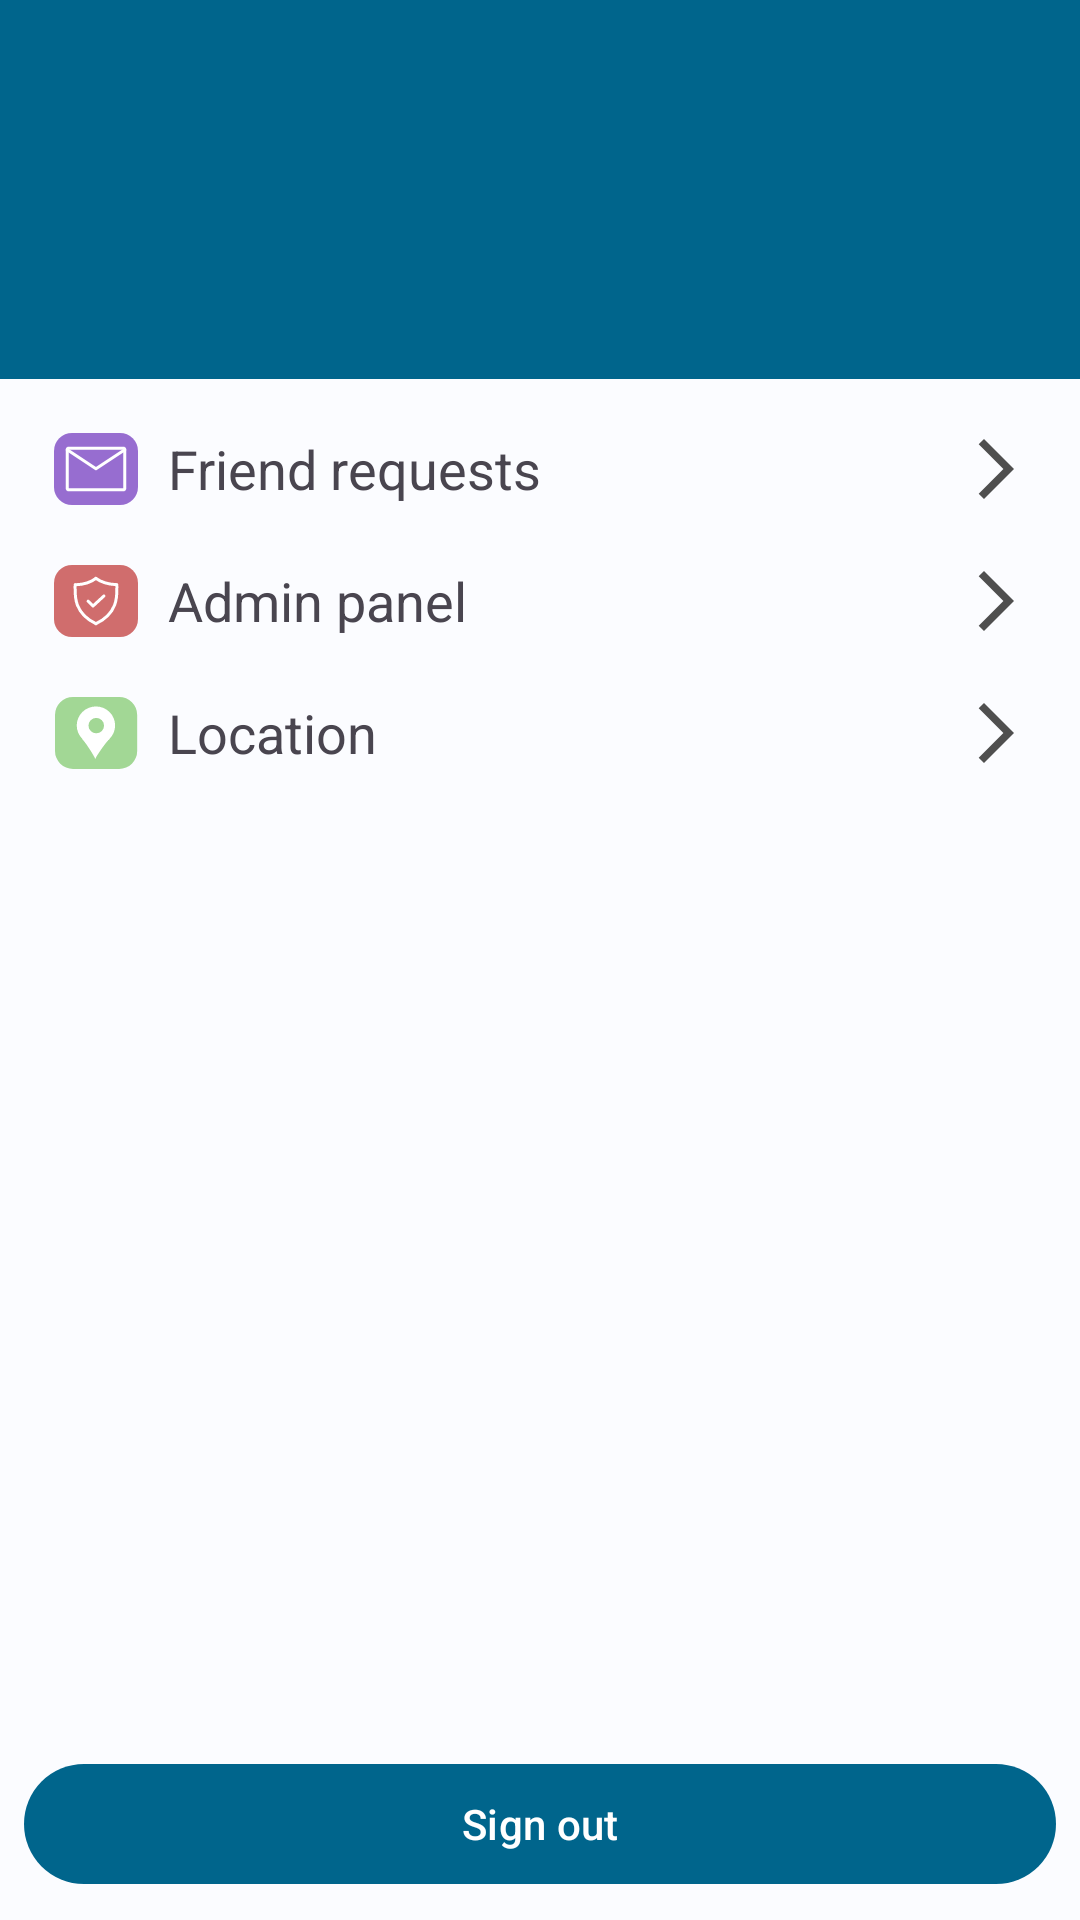

Icon bounding boxes for this 1080x1920 phone screenshot, format (x1, y1, x2, y2):
A forward arrow pointing right: (979, 439, 1014, 499), (979, 571, 1014, 631), (979, 703, 1014, 763)
envelope: (54, 433, 138, 505)
map pin: (55, 697, 137, 769)
